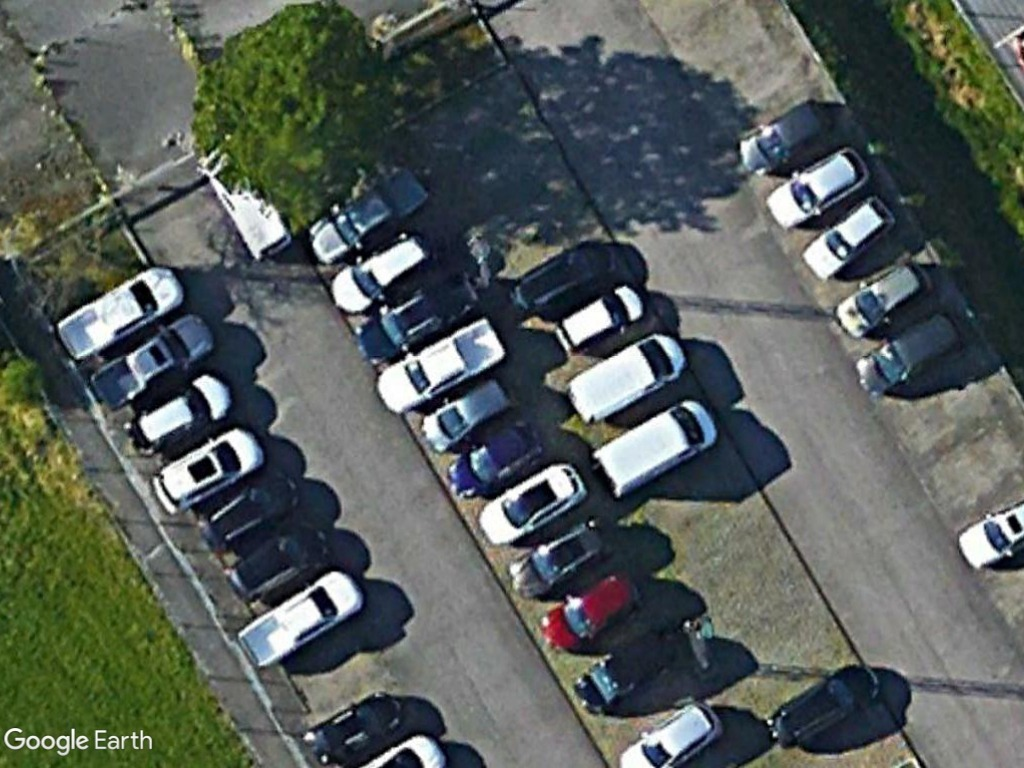car: (236, 559, 363, 676), (349, 254, 478, 369), (763, 655, 886, 756), (148, 416, 265, 519), (469, 452, 583, 556), (322, 223, 441, 321), (568, 617, 677, 722), (125, 363, 236, 462), (506, 515, 622, 605), (509, 229, 620, 321), (853, 308, 964, 399), (224, 511, 331, 605), (539, 563, 644, 658), (446, 413, 549, 508), (766, 141, 871, 231), (417, 369, 516, 458), (830, 256, 933, 340), (303, 684, 406, 768), (735, 95, 838, 178), (800, 195, 895, 282), (547, 278, 648, 357)
van: (584, 392, 723, 500), (563, 329, 686, 427)
